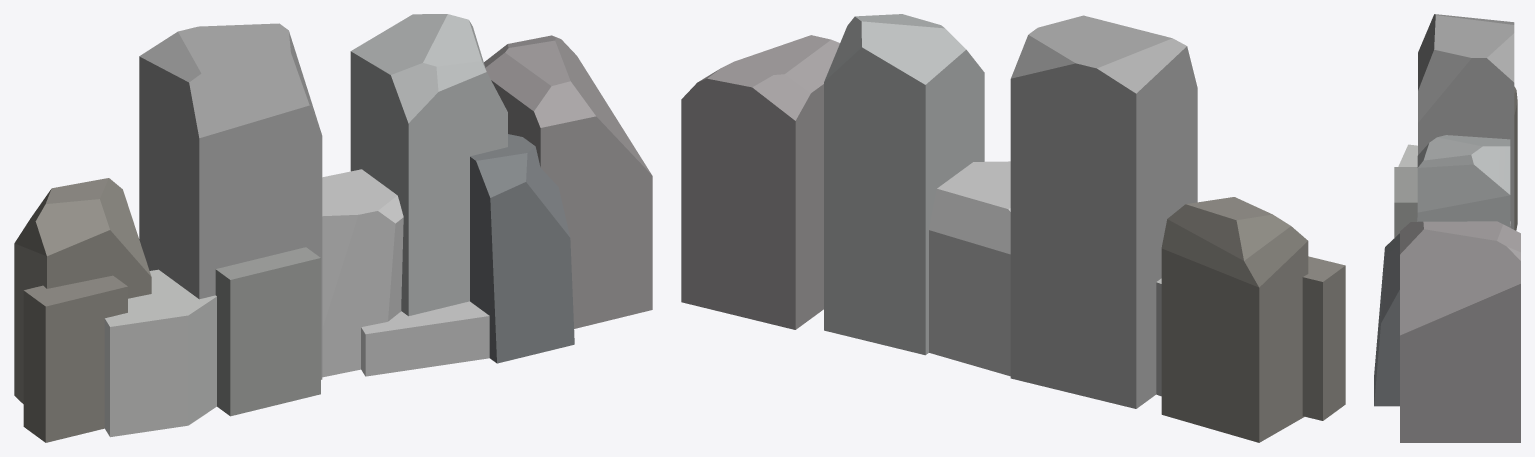
File: Rock_Wall_07.fbx
3 renders of one model, left to right at view 1: azimuth 30°, elevation 25°; view 2: azimuth 150°, elevation 25°; view 3: azimuth 270°, elevation 25°, orthographic. The views are drawn at different scales.
Visible parts, largest first — view 1: Rock_Wall_07; view 2: Rock_Wall_07; view 3: Rock_Wall_07.
Boxes of the visible parts, bbox=[...] form: Rock_Wall_07: bbox=[14, 14, 652, 442]; Rock_Wall_07: bbox=[681, 14, 1345, 442]; Rock_Wall_07: bbox=[1374, 14, 1520, 442].
Bounding box in the file's own units: 1228 × 647 × 329.
